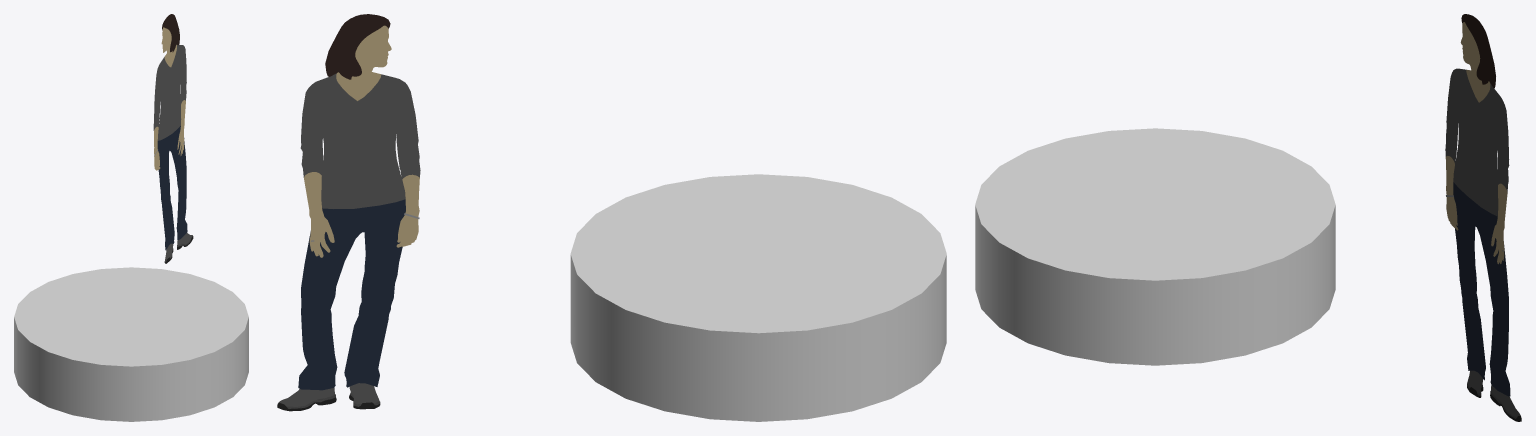
The model's file is Cyl.dae.
3 views of the same model, side by side, from view 1: azimuth 30°, elevation 25°; view 2: azimuth 150°, elevation 25°; view 3: azimuth 270°, elevation 25° (orthographic). The views are drawn at different scales.
Visible parts, largest first — view 1: SketchUp, Susan (×5); view 2: SketchUp, Susan (×6); view 3: SketchUp, Susan (×5).
Part boxes in pixels (bbox=[...]): SketchUp: bbox=[14, 267, 248, 421]; Susan (×5): bbox=[153, 14, 187, 250]; SketchUp: bbox=[570, 174, 946, 421]; Susan (×6): bbox=[279, 14, 420, 406]; SketchUp: bbox=[975, 128, 1335, 365]; Susan (×5): bbox=[1445, 14, 1510, 396].
Bounding box in the file's own units: 79.96 × 87.15 × 66.6.
